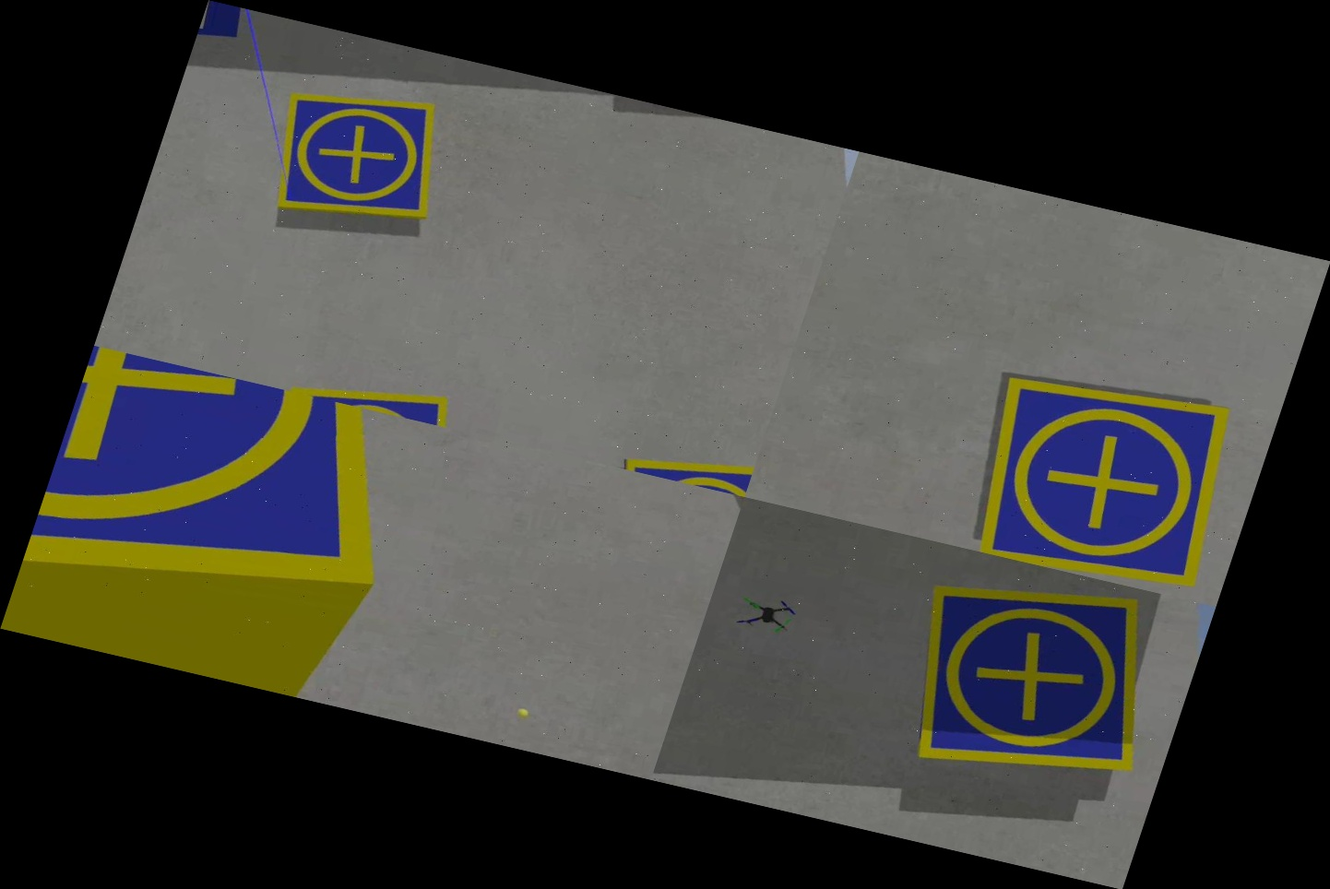small_base: (2, 346, 437, 702), (878, 552, 1189, 811), (951, 355, 1256, 601), (250, 70, 465, 244)
